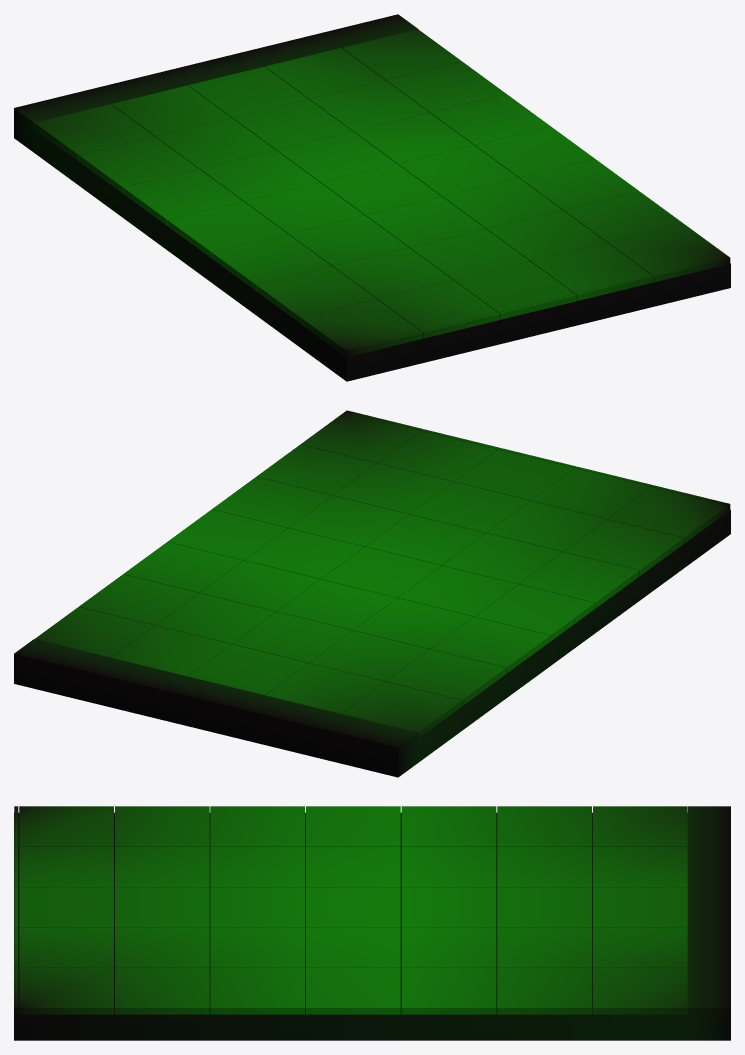
The model's file is via_he_straight.glb.
3 views of the same model, one above another, from view 1: azimuth 30°, elevation 25°; view 2: azimuth 150°, elevation 25°; view 3: azimuth 270°, elevation 25° (orthographic). The views are drawn at different scales.
Visible parts, largest first — view 1: via_he_straight; view 2: via_he_straight; view 3: via_he_straight.
Part boxes in pixels (bbox=[...]): via_he_straight: bbox=[14, 14, 730, 381]; via_he_straight: bbox=[14, 410, 730, 777]; via_he_straight: bbox=[14, 806, 730, 1040].
Size of the model in its own units: 2 by 0.15 by 3.
